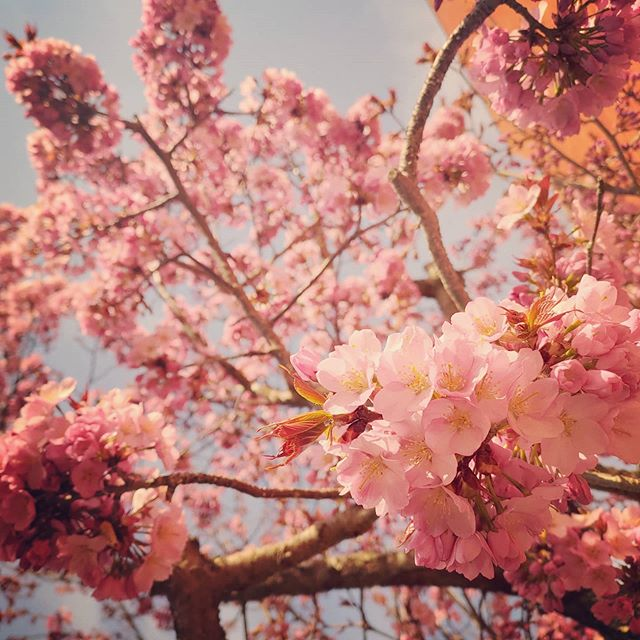flowers: (1, 1, 636, 631)
